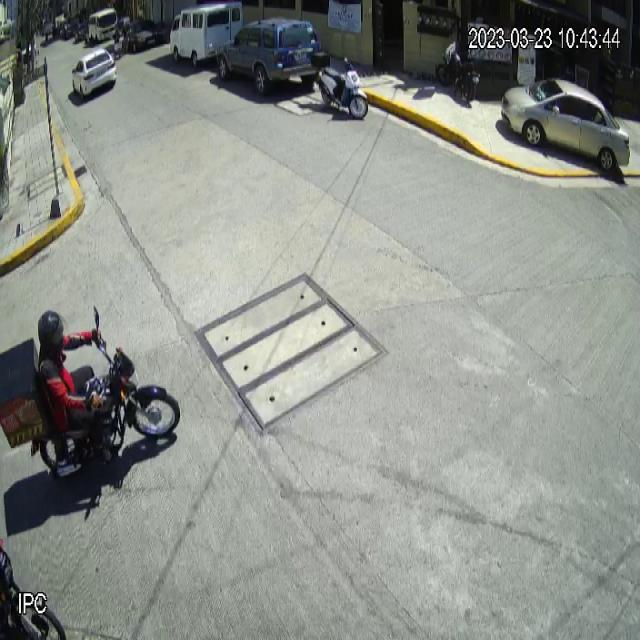Car: (501, 77, 632, 175), (216, 15, 322, 96)
Motorcycle: (29, 306, 181, 479), (308, 51, 369, 120)
Van: (169, 0, 245, 68)
